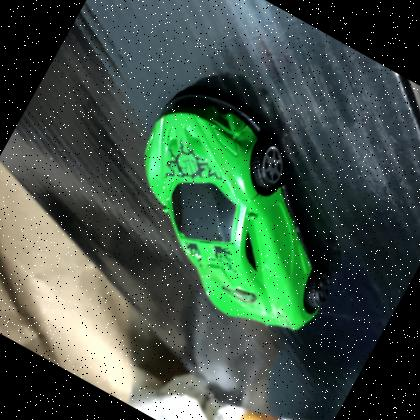Car: (143, 85, 330, 330)
